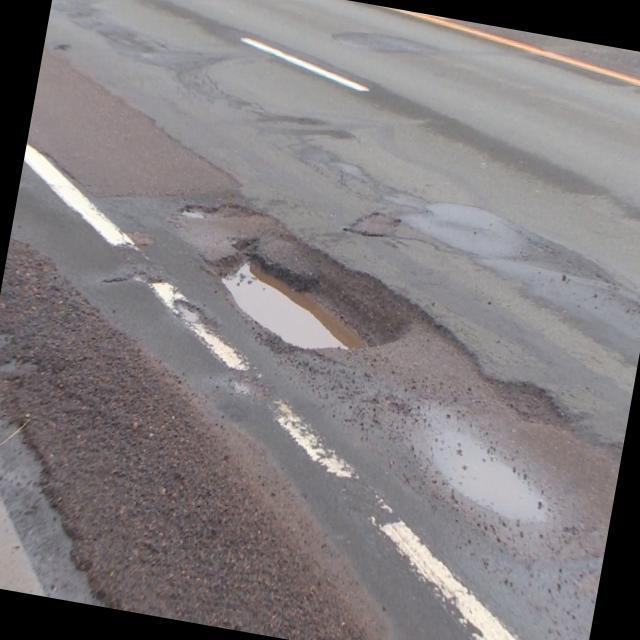Pothole: (206, 234, 419, 376), (481, 369, 571, 437), (176, 191, 220, 222)
